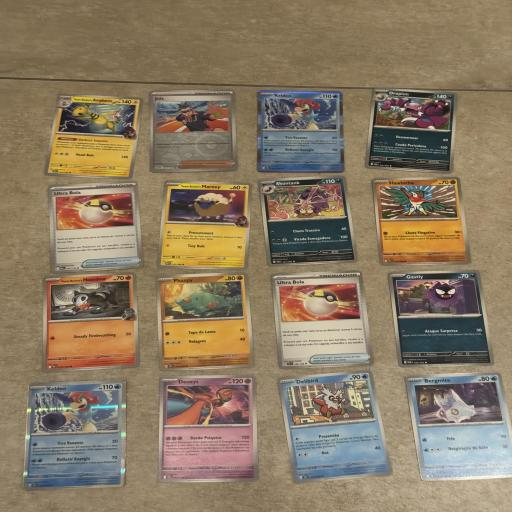card: (278, 363, 395, 491), (22, 377, 127, 492), (405, 371, 512, 483), (388, 262, 494, 375), (157, 375, 259, 482), (37, 271, 141, 373), (271, 270, 375, 369), (156, 272, 254, 372), (258, 175, 359, 267), (46, 180, 144, 274), (372, 176, 473, 267), (43, 91, 143, 180), (156, 180, 252, 271), (364, 86, 458, 174), (148, 90, 238, 173), (256, 90, 346, 173)
